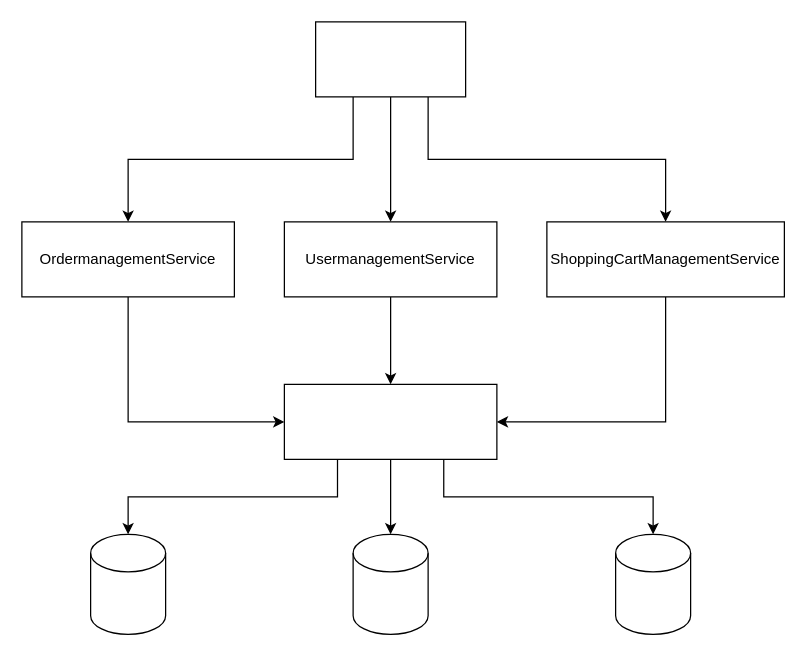
This 806x656 diagram has some shape labels left out. The shapes that lost their labels are listed below. From the top down, each one's centre as x and y in pixels, then its label:
point (390, 59): BackeryApiService
point (390, 421): BackeryDbProxyService
